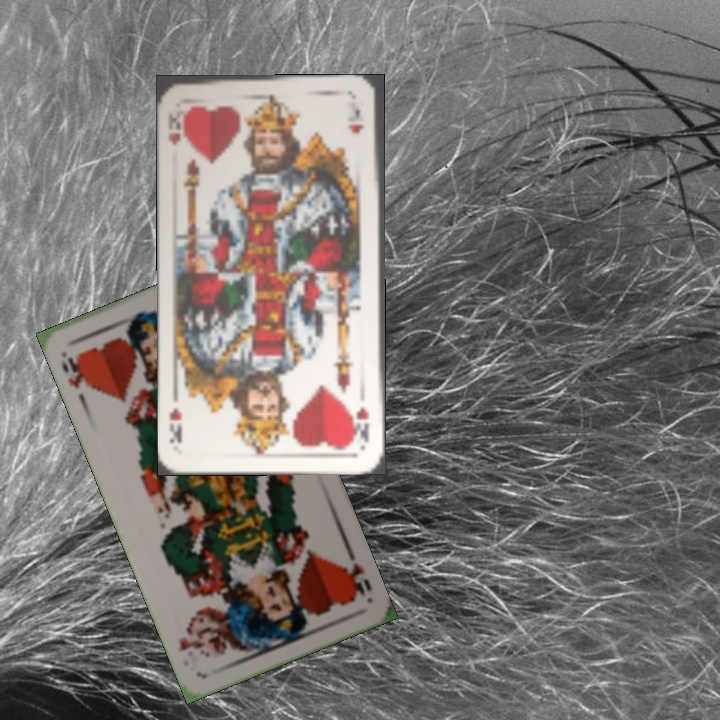HK: (164, 106, 190, 148), (350, 403, 372, 448)
HO: (339, 545, 375, 604), (56, 349, 95, 393)
